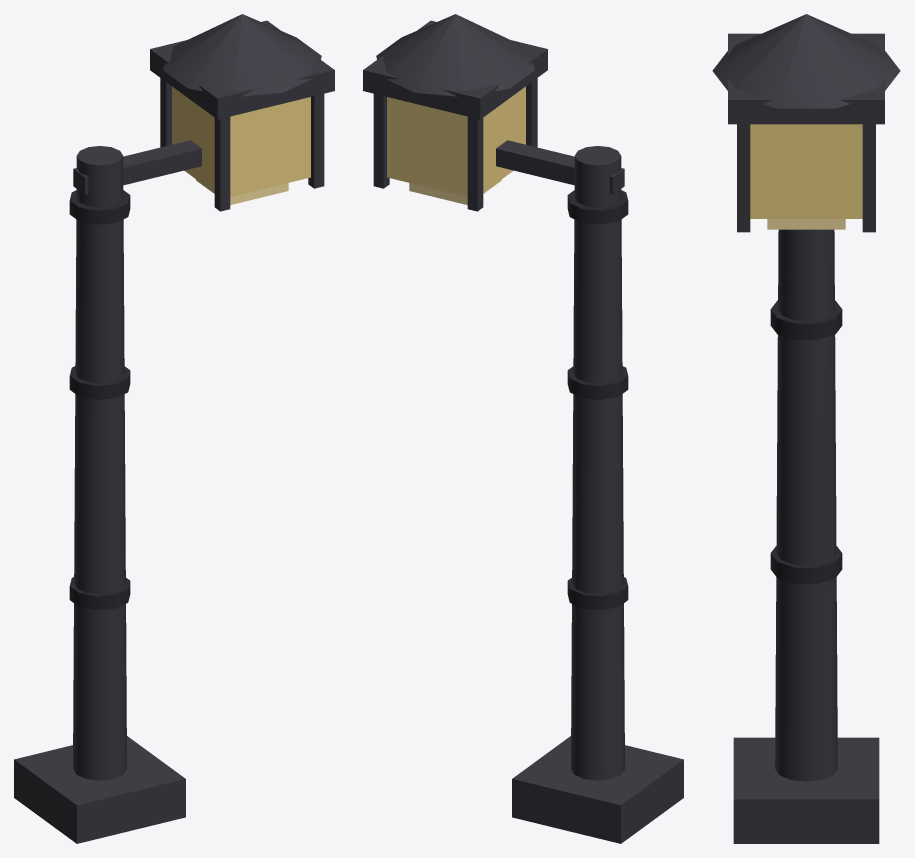
Rendered from lamp.glb.
The picture shows the model from 3 angles, left to right: view 1: azimuth 30°, elevation 25°; view 2: azimuth 150°, elevation 25°; view 3: azimuth 270°, elevation 25°; orthographic projection. The views are drawn at different scales.
Parts seen in each view (by area): view 1: lamp; view 2: lamp; view 3: lamp.
Part boxes in pixels (box(x1,y1,x2,y2)): lamp: box(14, 14, 334, 843); lamp: box(363, 14, 683, 843); lamp: box(712, 14, 900, 843).
Size of the model in its own units: 1.57 by 4.33 by 0.84.
